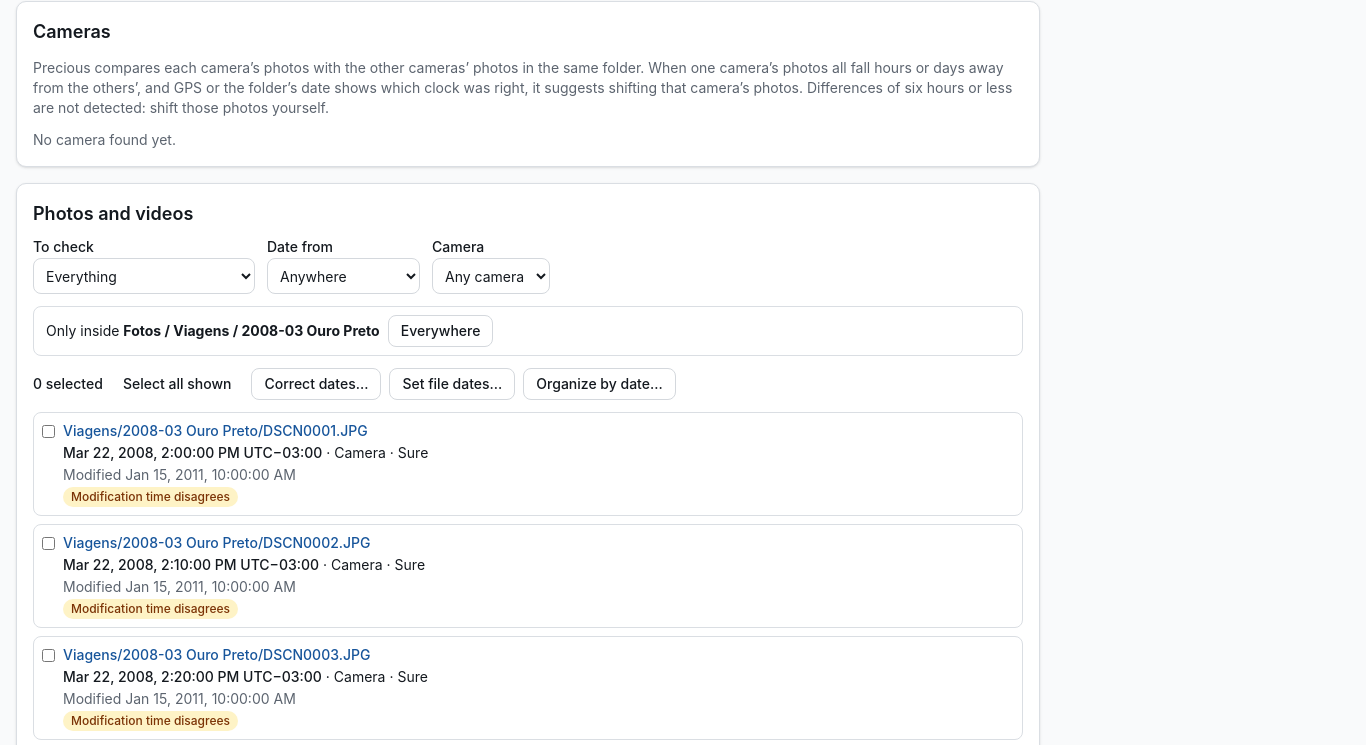
Test case: The Dates screen › R5.4 Setting file dates from the screen
(page scrolled)
Expected: the text "Fotos / Viagens / 2008-03 Ouro Preto" is shown, [123,322,380,339]
Click the button "Select all shown".
click(177, 384)  # box [111,368,244,400]
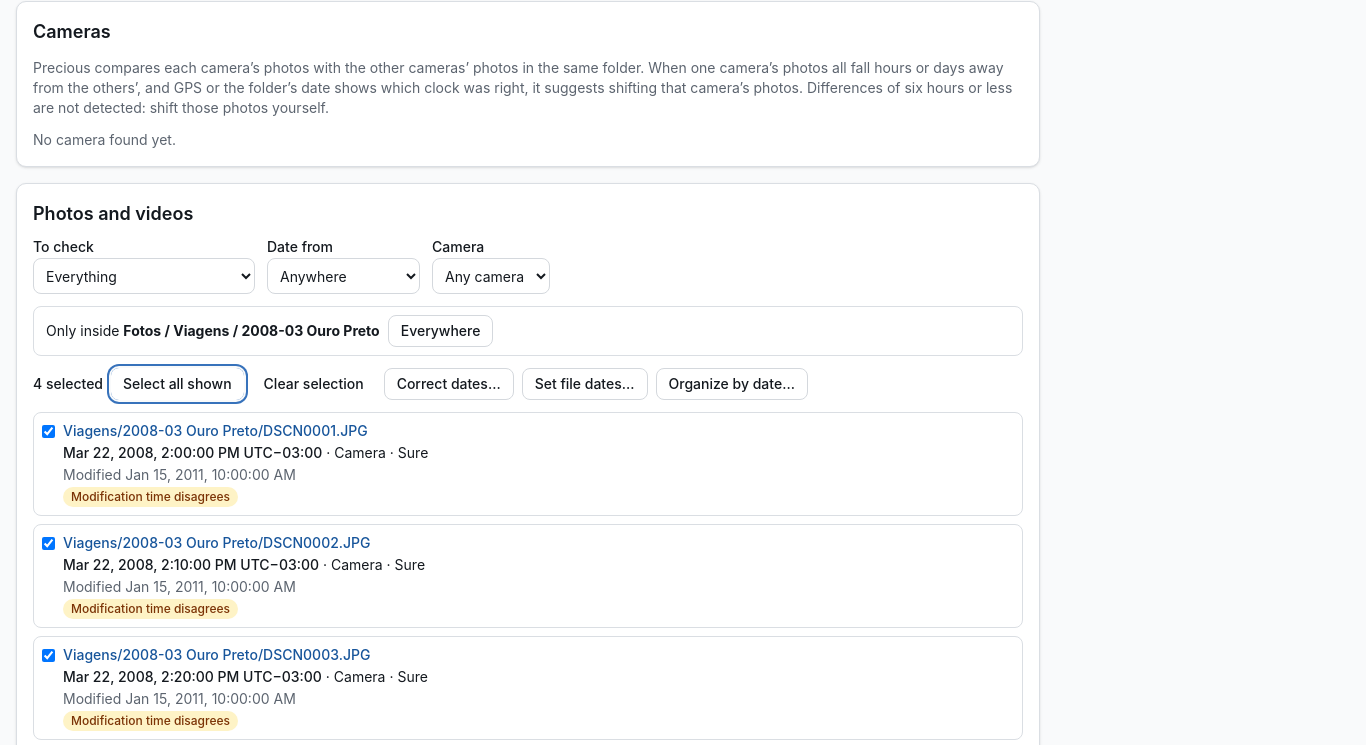
Expected: the text "4 selected" is shown, [33,374,103,394]
Click the button "Set file dates…".
click(585, 384)  # box [522,368,648,400]
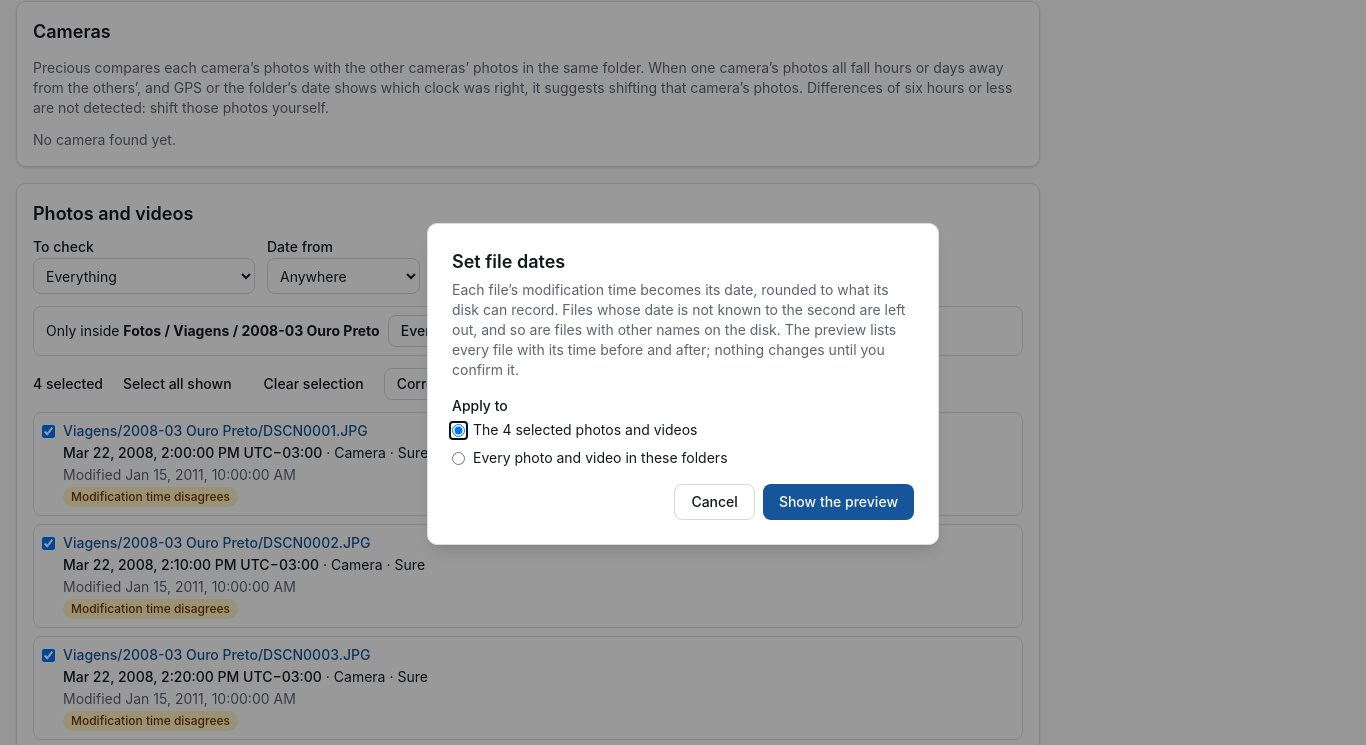
Expected: the radio button labelled "The 4 selected photos and videos" is checked, [452,424,465,436]
Click the button "Show the preview".
click(838, 502)  # box [763,484,914,520]
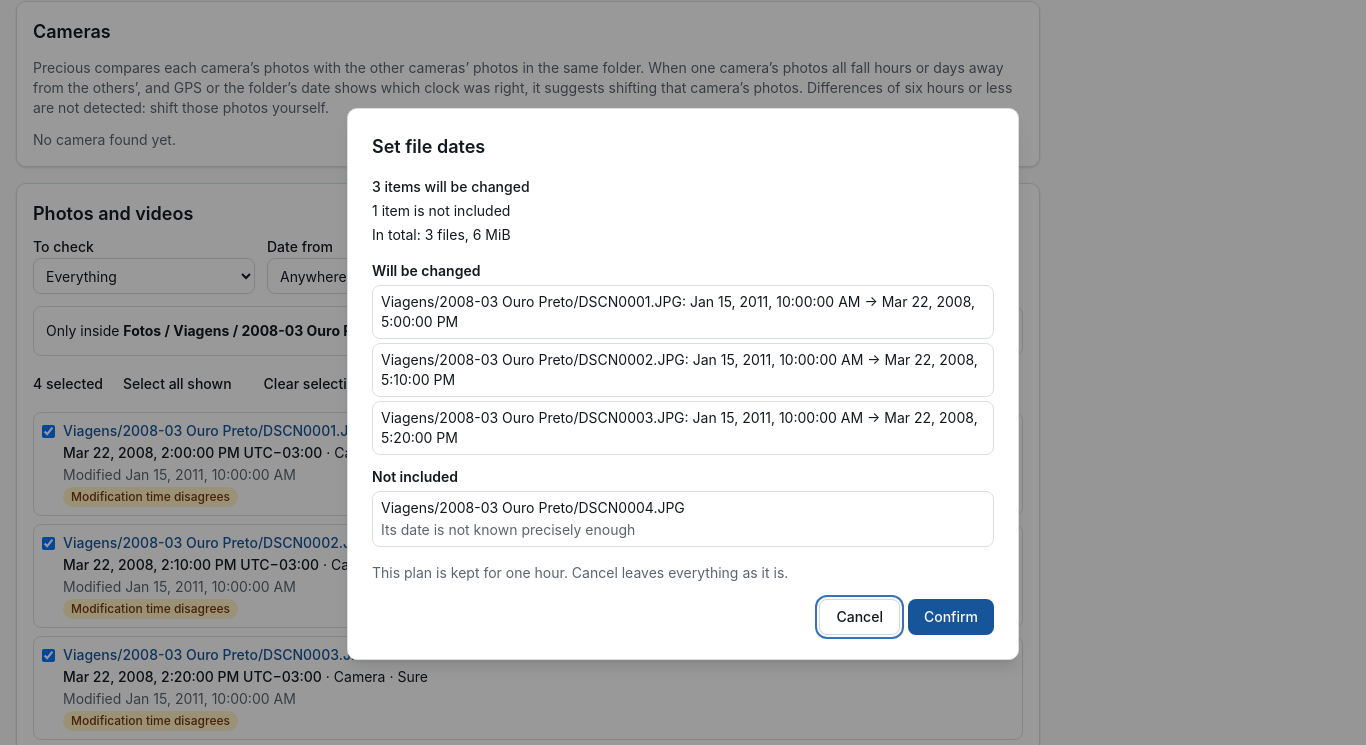
Click the button "Confirm".
click(951, 617)  # box [908,599,994,635]
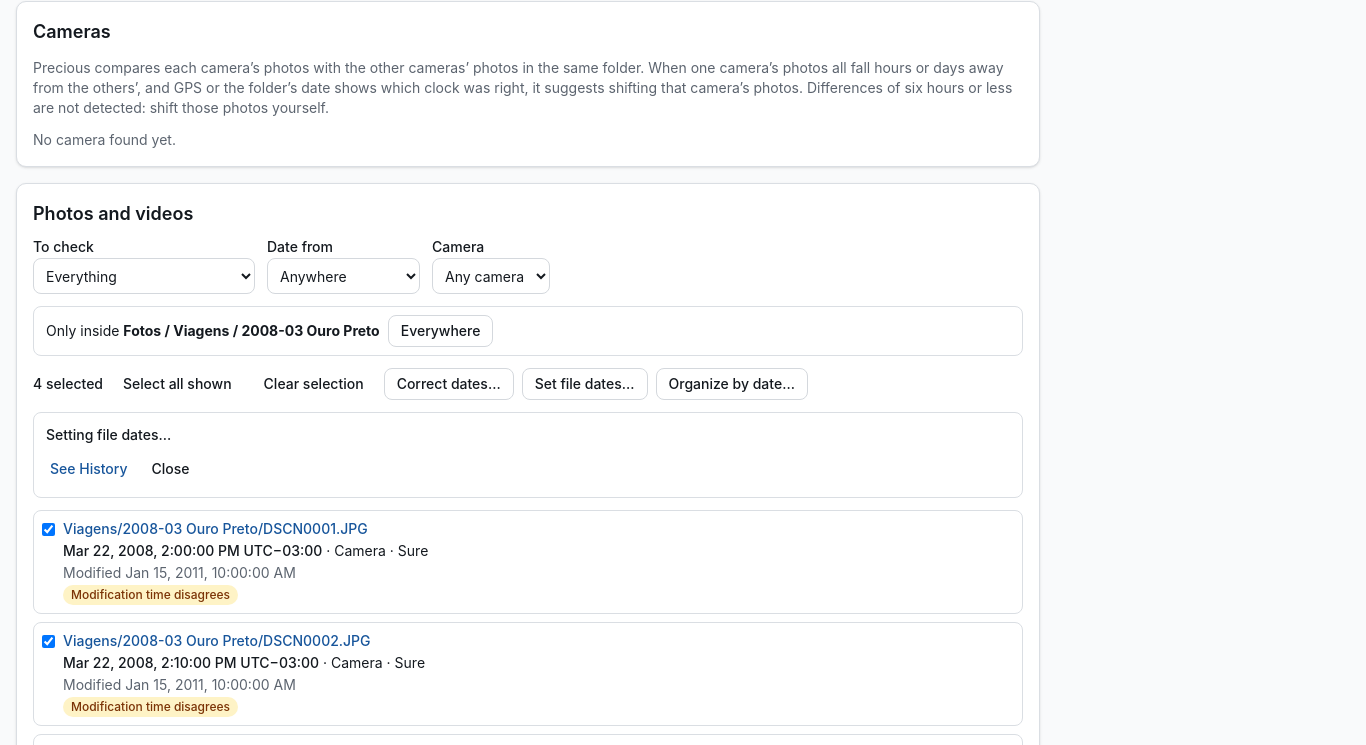
Expected: the text "Setting file dates…" is shown, [46,426,171,443]
